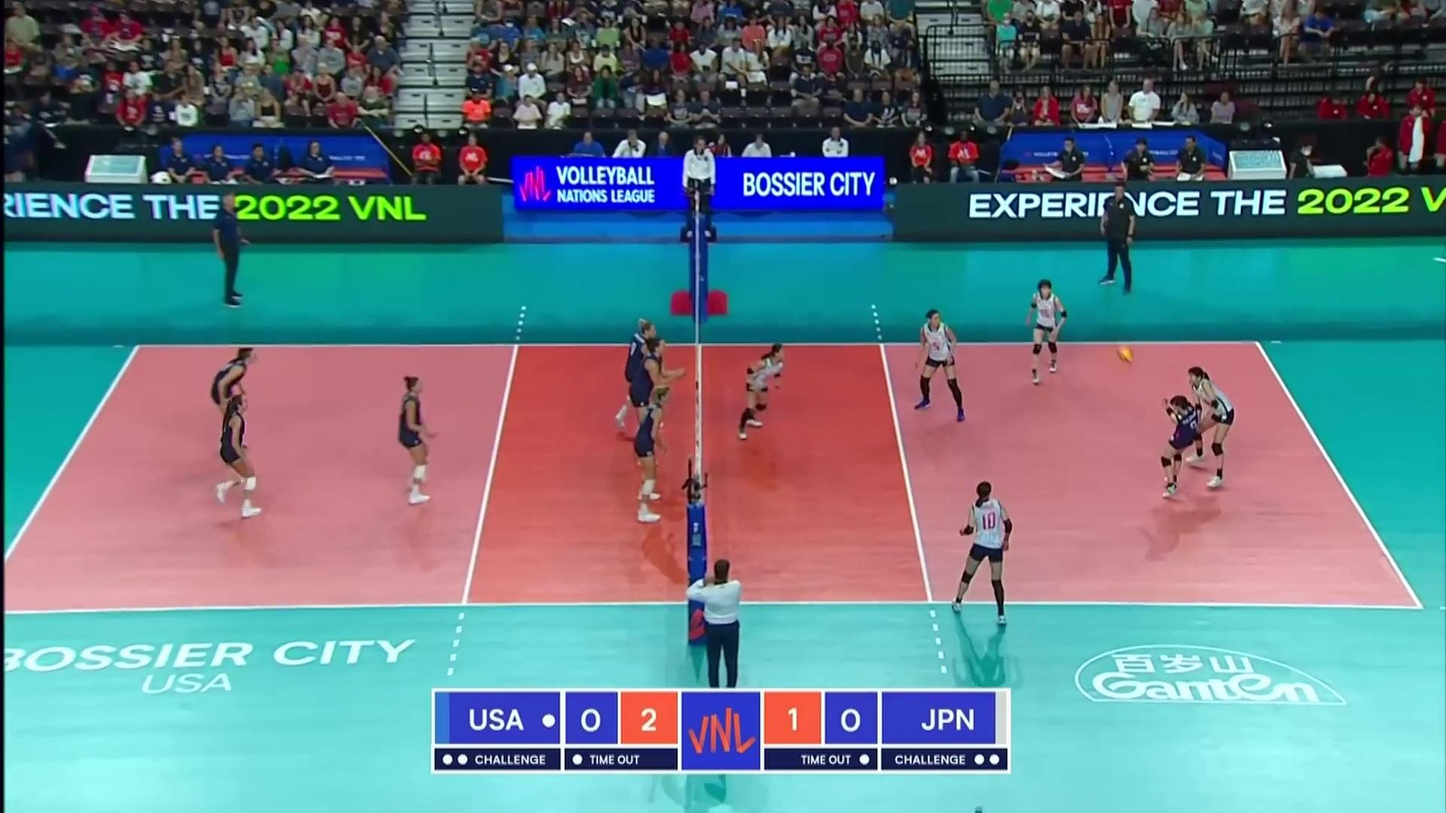player: (951, 482, 1018, 622), (633, 340, 689, 471), (210, 393, 266, 520), (389, 375, 440, 507), (914, 310, 969, 421), (613, 316, 662, 436), (1190, 365, 1237, 485), (735, 344, 790, 445), (210, 342, 255, 464), (636, 384, 672, 526), (1025, 281, 1071, 382), (1159, 392, 1200, 499)
refree: (691, 558, 757, 688), (682, 133, 718, 237)
